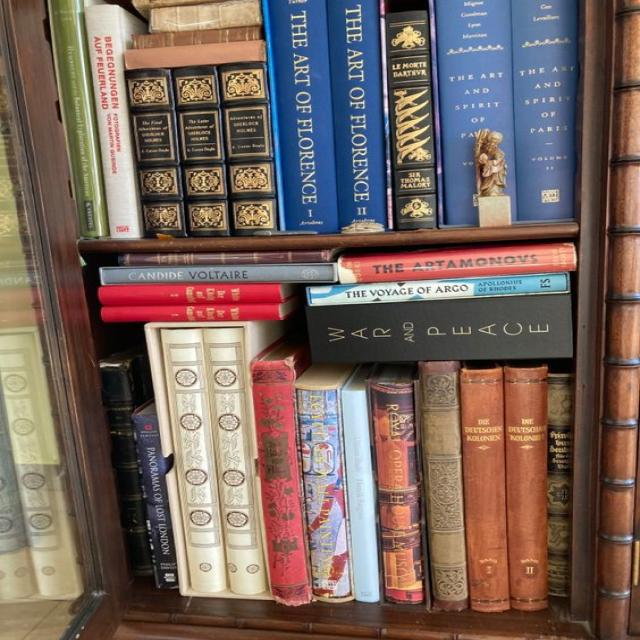book: (306, 295, 574, 365), (436, 1, 518, 225), (160, 329, 227, 591), (264, 0, 338, 234), (204, 328, 269, 594), (327, 0, 390, 233), (48, 0, 109, 238), (251, 360, 310, 604), (512, 0, 574, 220), (96, 361, 155, 574), (86, 5, 140, 236), (461, 369, 511, 613), (371, 380, 424, 605), (420, 361, 468, 609), (386, 10, 438, 229), (299, 388, 352, 602), (505, 367, 549, 611), (124, 70, 186, 238), (218, 63, 278, 234), (172, 67, 230, 236), (340, 391, 381, 602), (337, 247, 577, 283), (306, 274, 570, 306), (132, 415, 179, 589), (101, 262, 337, 285), (97, 285, 283, 306), (121, 250, 328, 265)
